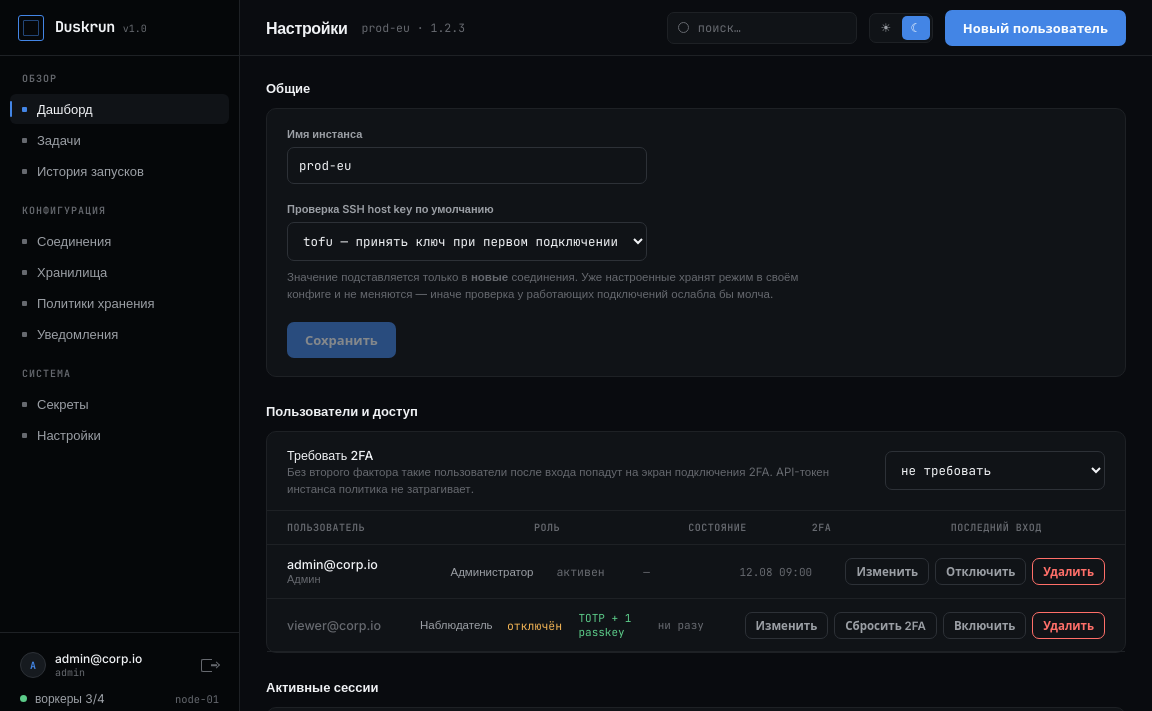
Test: TestLastAdminConflictSurfaces: a 409 from the server is shown, not swallowed
The image size is (1152, 711).
Click the button "Удалить" in the row of "12.08 09:00" at [1069, 572], box x1=1032 y1=558 x2=1105 y2=585
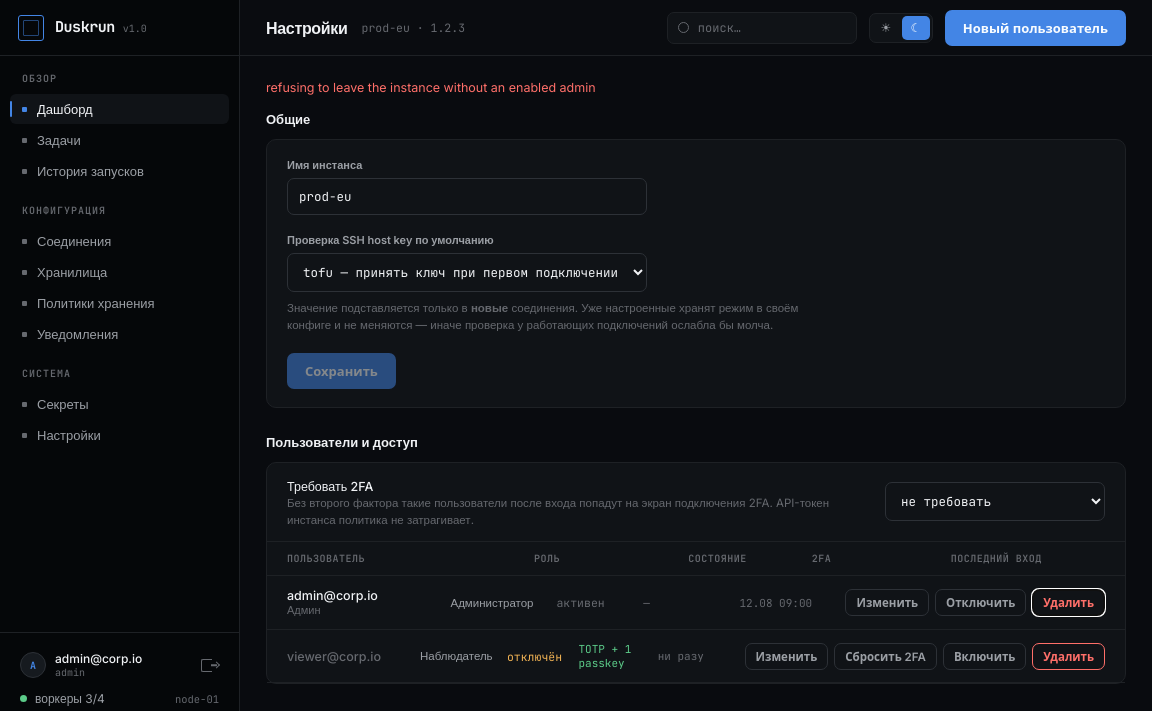
Expected: the message shows "without an enabled admin", x1=266 y1=80 x2=596 y2=95
